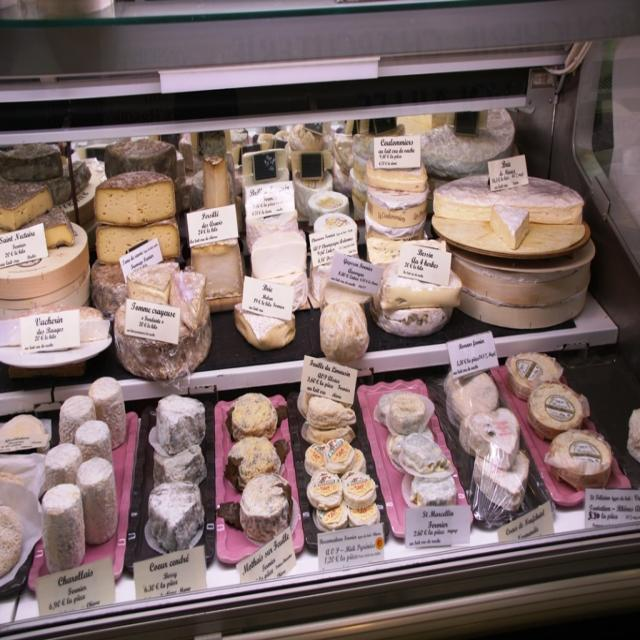Cheese: (0, 122, 613, 580)
